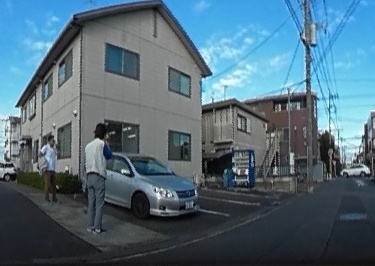person: (81, 122, 112, 234), (40, 135, 58, 201)
